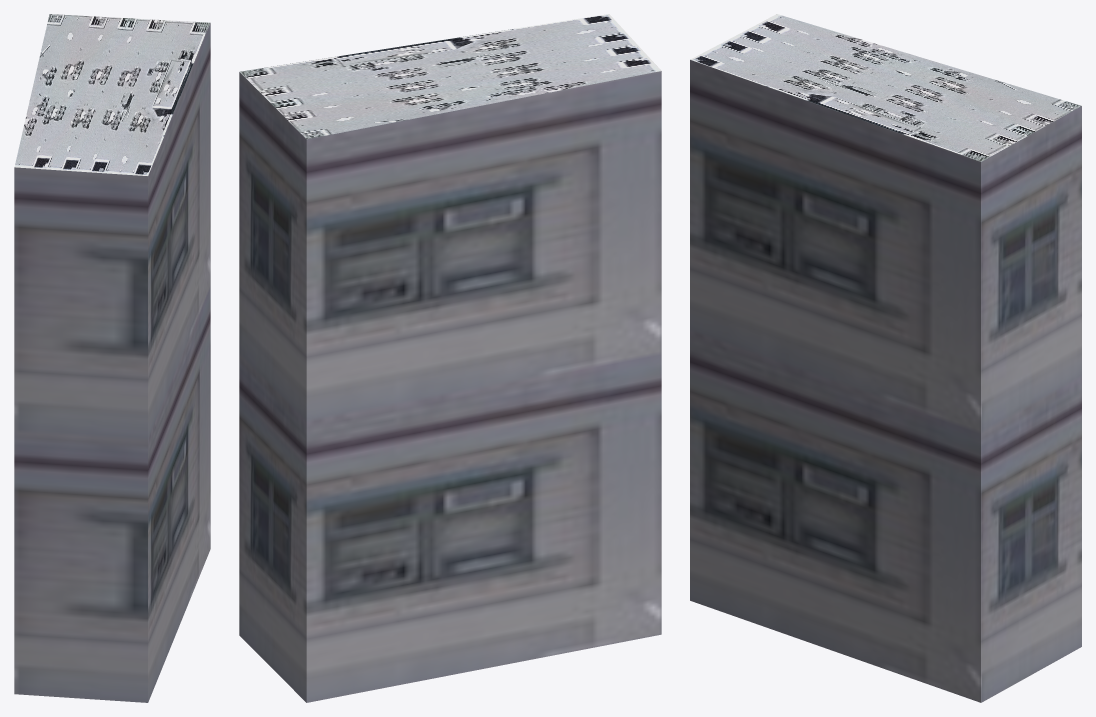
The model's file is ResTex__483.fbx.
The picture shows the model from 3 angles, left to right: view 1: azimuth 30°, elevation 25°; view 2: azimuth 150°, elevation 25°; view 3: azimuth 270°, elevation 25°; orthographic projection. The views are drawn at different scales.
Visible parts, largest first — view 1: CityEngineMaterial_1_m, CityEngineMaterial_2_m; view 2: CityEngineMaterial_1_m, CityEngineMaterial_2_m; view 3: CityEngineMaterial_1_m, CityEngineMaterial_2_m.
Part boxes in pixels (left/top/right/bottom): CityEngineMaterial_1_m: left=14, top=23, right=210, bottom=702; CityEngineMaterial_2_m: left=14, top=14, right=209, bottom=175; CityEngineMaterial_1_m: left=239, top=71, right=661, bottom=702; CityEngineMaterial_2_m: left=239, top=14, right=661, bottom=139; CityEngineMaterial_1_m: left=690, top=60, right=1081, bottom=702; CityEngineMaterial_2_m: left=690, top=14, right=1081, bottom=161.
Bounding box in the file's own units: 3.52 × 6 × 3.94.
Materials: 2 (2 with a texture image).
